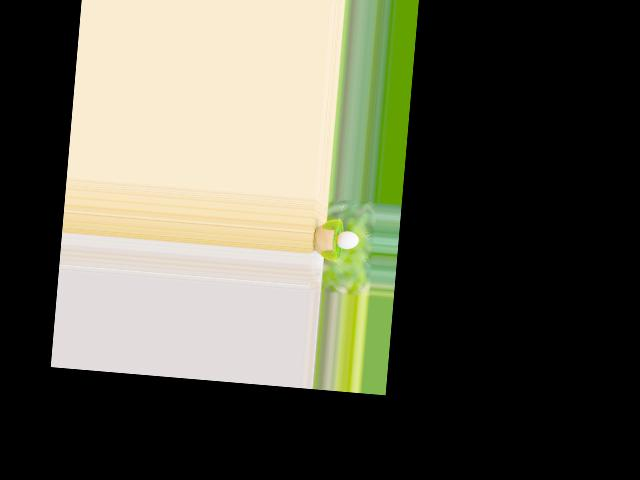egg: (335, 231, 358, 250)
